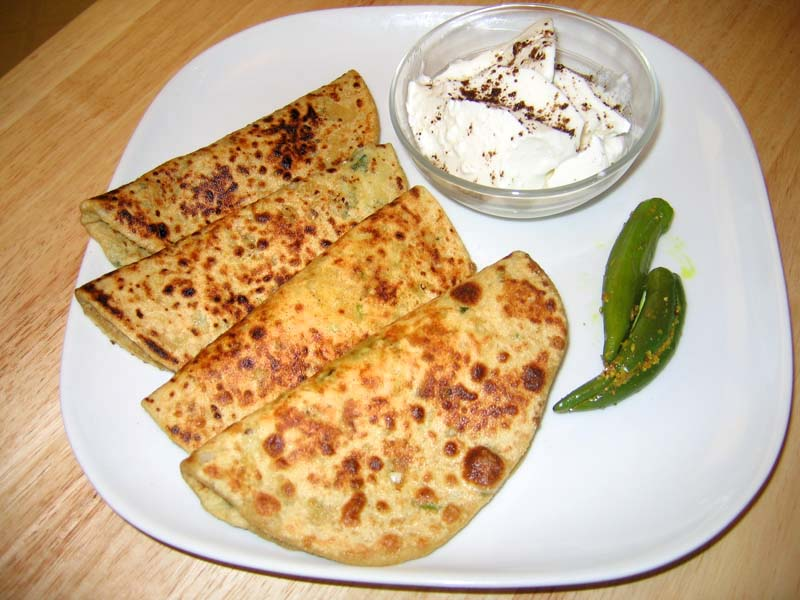aloo_paratha: (70, 68, 566, 563)
